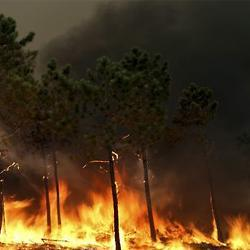fire: (124, 9, 246, 49), (61, 198, 113, 249), (2, 202, 46, 244), (119, 194, 151, 247), (226, 218, 250, 249), (156, 238, 186, 250)
